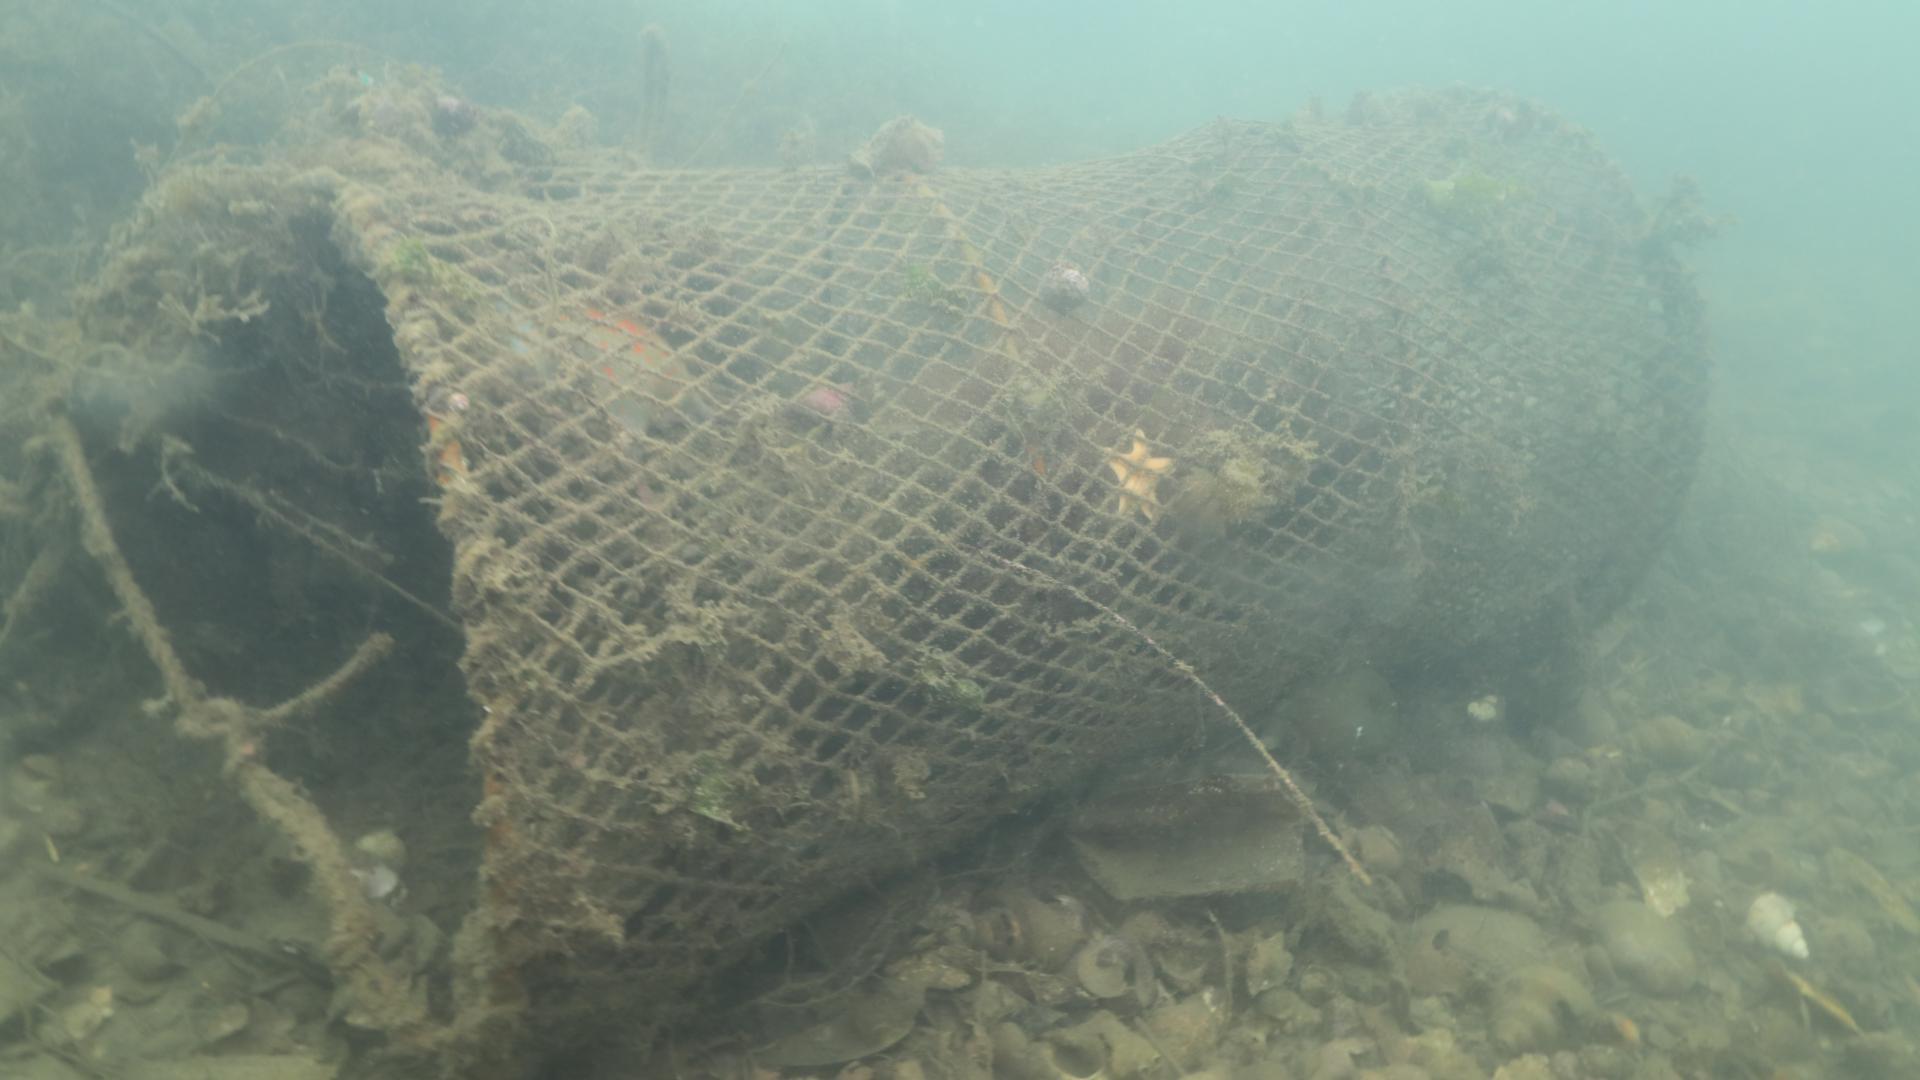spring fish trap: (29, 84, 1706, 1055)
